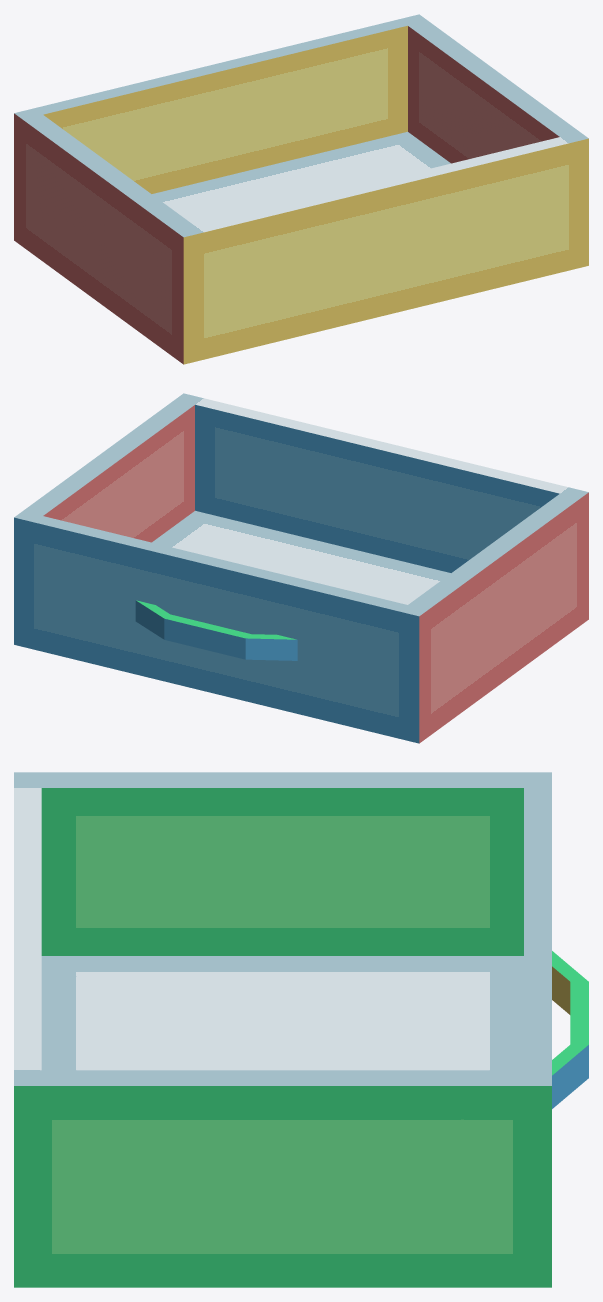
File: nightstand_drawer.obj
The picture shows the model from 3 angles, top to bottom: view 1: azimuth 30°, elevation 25°; view 2: azimuth 150°, elevation 25°; view 3: azimuth 270°, elevation 25°; orthographic projection. The views are drawn at different scales.
Visible parts, largest first — view 1: drawer; view 2: drawer, cuboid; view 3: drawer, cuboid.
Part boxes in pixels (x1,y1,x2,y2): drawer: (14, 14, 588, 364); drawer: (14, 393, 588, 743); cuboid: (135, 600, 297, 660); drawer: (14, 772, 551, 1287); cuboid: (552, 951, 588, 1108).
Bounding box in the file's own units: 0.625 × 0.1875 × 0.4844.
1 material, 1 textured.
